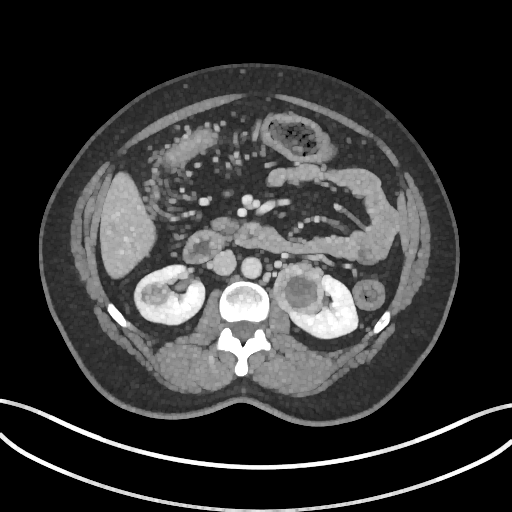Lesion: (275, 263, 329, 318)
